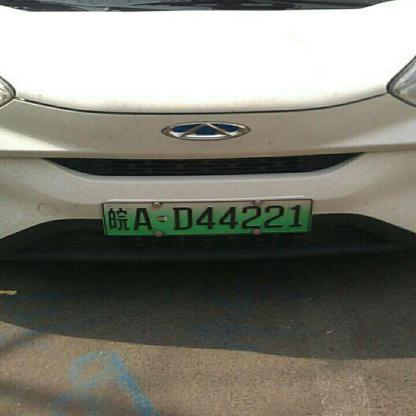lp: (101, 198, 310, 234)
